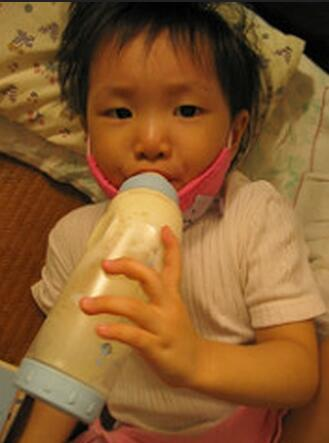WRONG: (91, 79, 235, 223)
